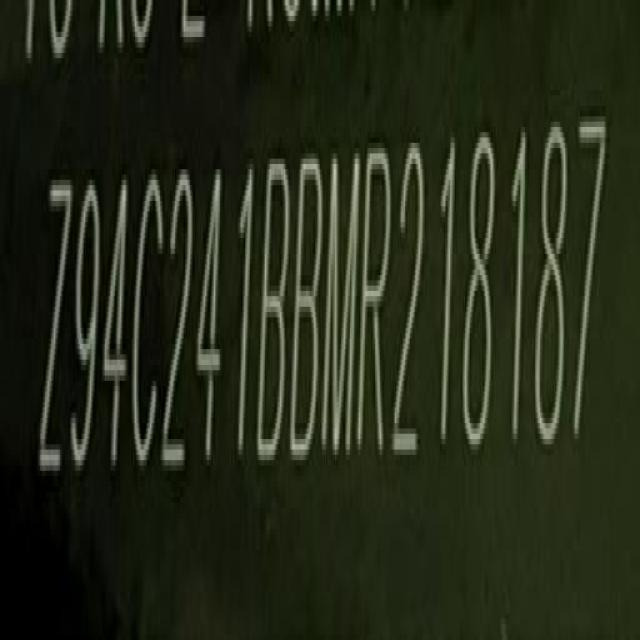1: (434, 130, 458, 456), (230, 158, 254, 474), (508, 120, 530, 453)
2: (395, 144, 428, 467), (162, 170, 196, 483)
4: (196, 162, 228, 478), (100, 170, 132, 481)
7: (574, 106, 610, 449)
8: (536, 112, 571, 450), (461, 126, 497, 454)
9: (71, 182, 101, 488)
B: (256, 151, 292, 470), (293, 147, 327, 471)
C: (132, 172, 167, 486)
M: (322, 144, 362, 472)
R: (358, 140, 394, 467)
Z: (37, 172, 72, 492)
